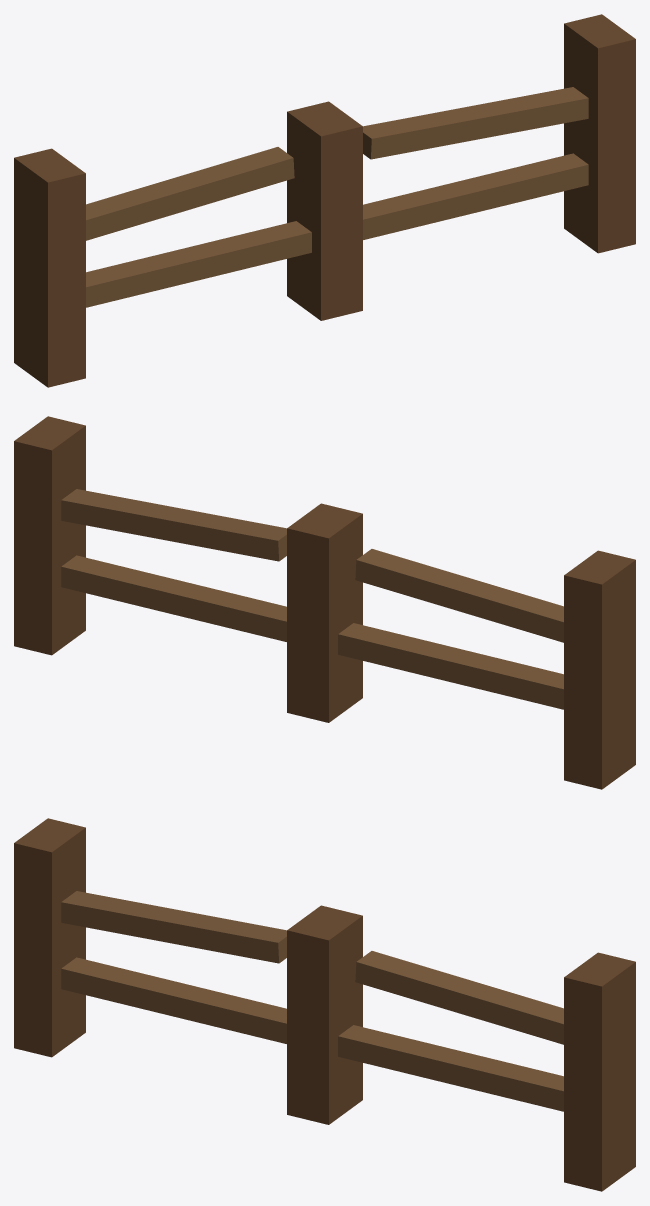
File: env_r6_rickety_rail.glb
3 renders of one model, top to bottom at view 1: azimuth 30°, elevation 25°; view 2: azimuth 150°, elevation 25°; view 3: azimuth 330°, elevation 25°, orthographic.
Visible parts, largest first — view 1: env_r6_rickety_rail; view 2: env_r6_rickety_rail; view 3: env_r6_rickety_rail.
Boxes of the visible parts, <box> form: env_r6_rickety_rail: <box>14,14,635,387</box>; env_r6_rickety_rail: <box>14,416,635,789</box>; env_r6_rickety_rail: <box>14,818,635,1191</box>.
Bounding box in the file's own units: 3 × 1 × 0.3.
1 material, 1 textured.
